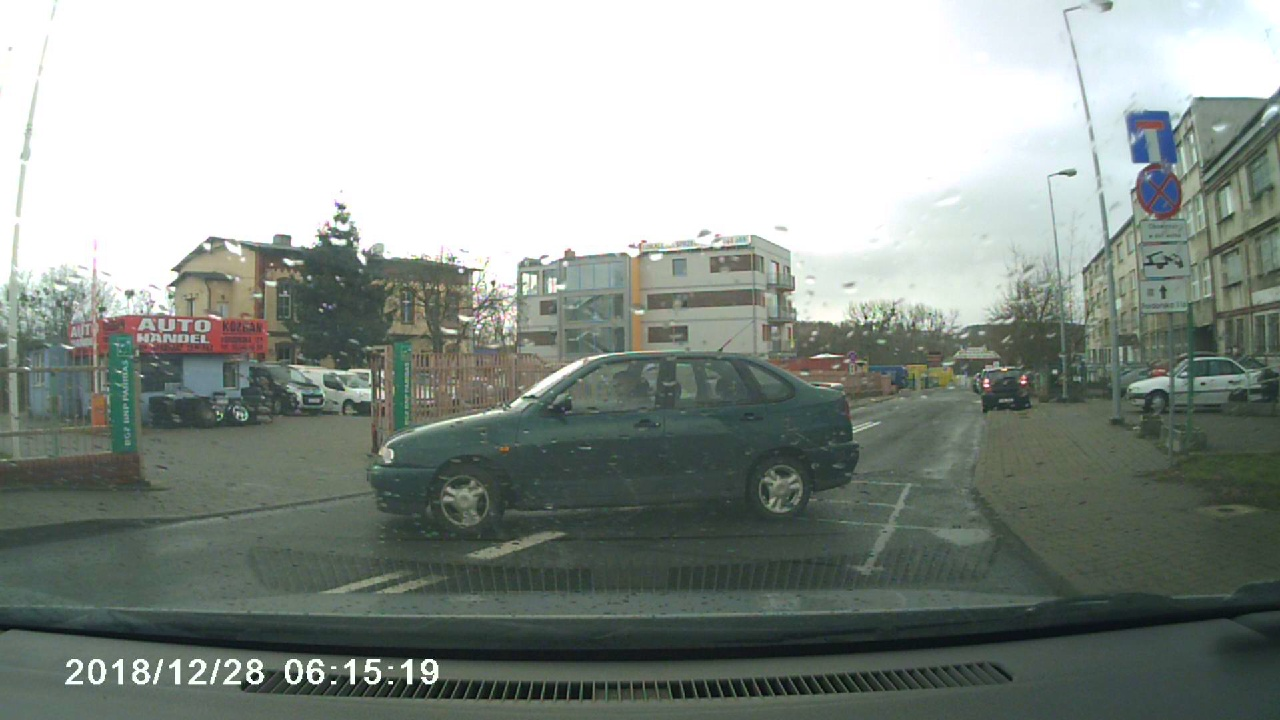B35: (1131, 162, 1189, 217)
